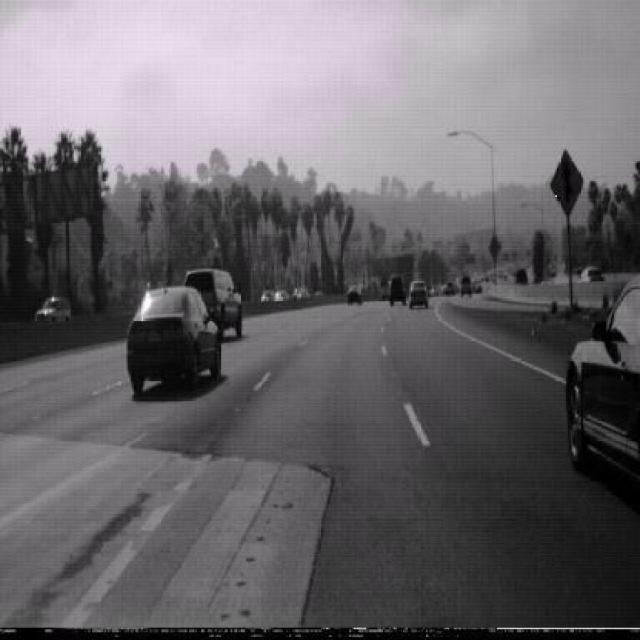merge: (549, 147, 584, 215)
